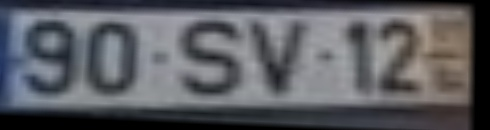0: (78, 21, 148, 103)
1: (340, 22, 373, 102)
2: (373, 19, 430, 101)
9: (17, 19, 78, 102)
S: (174, 20, 245, 104)
V: (239, 20, 319, 104)
